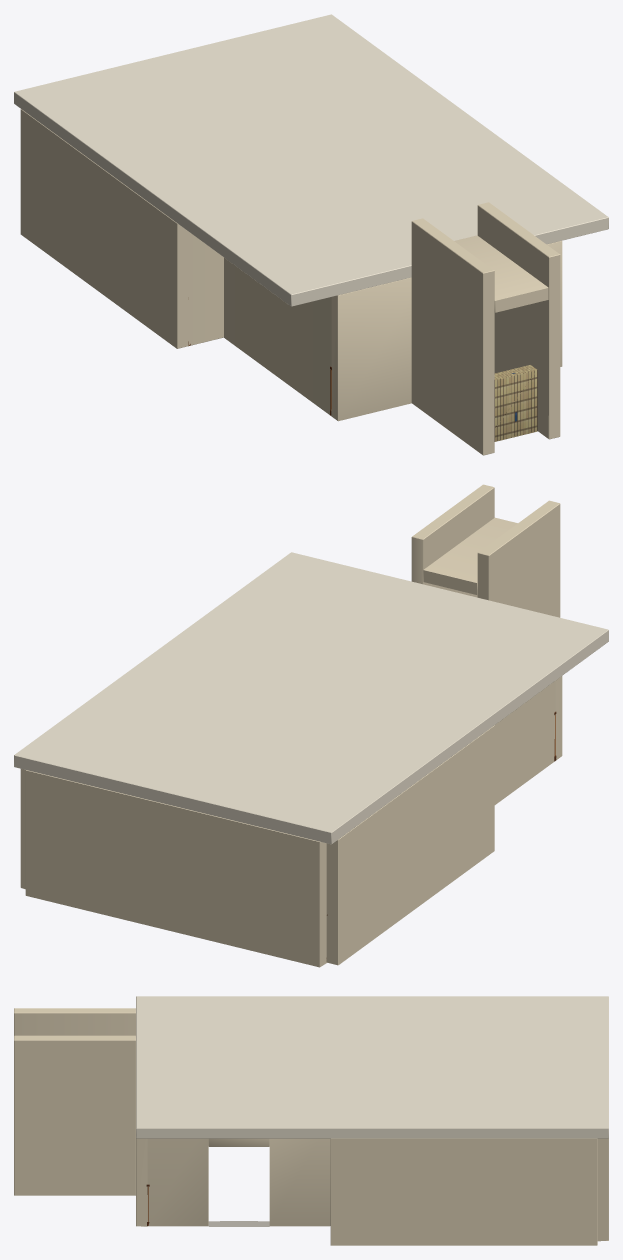
Rendered from cave.glb.
3 views of the same model, one above another, from view 1: azimuth 30°, elevation 25°; view 2: azimuth 150°, elevation 25°; view 3: azimuth 270°, elevation 25° (orthographic). The views are drawn at different scales.
Size of the model in its own units: 8.2 by 4.51 by 15.6.
Materials: 153 (24 with a texture image).
